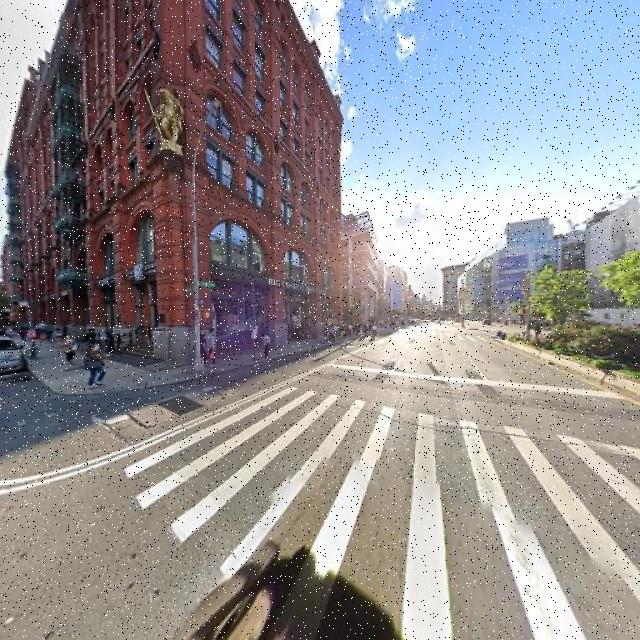Building: (24, 1, 342, 364)
